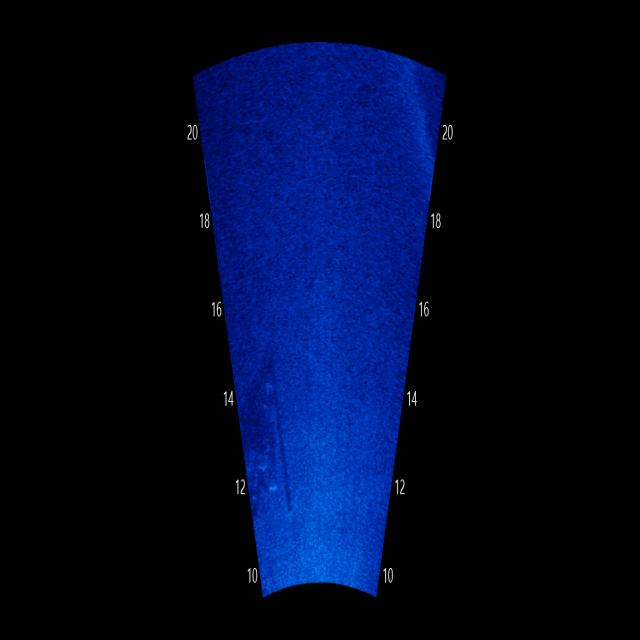circle: (306, 279, 356, 378)
